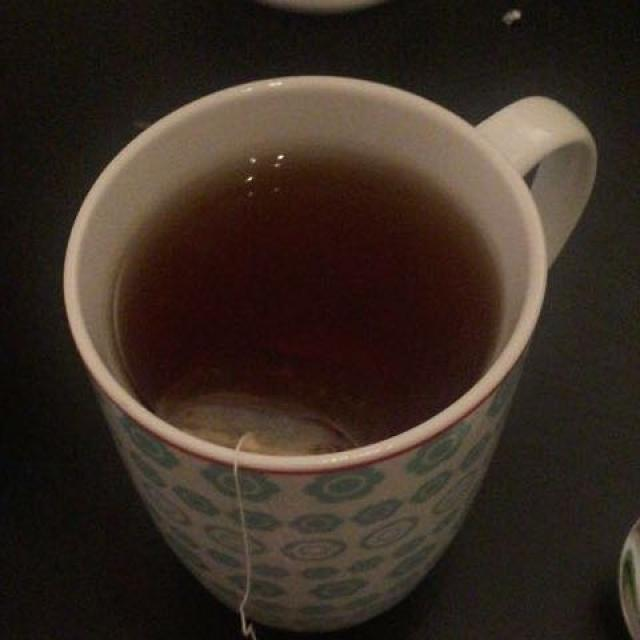tea: (115, 151, 495, 446)
